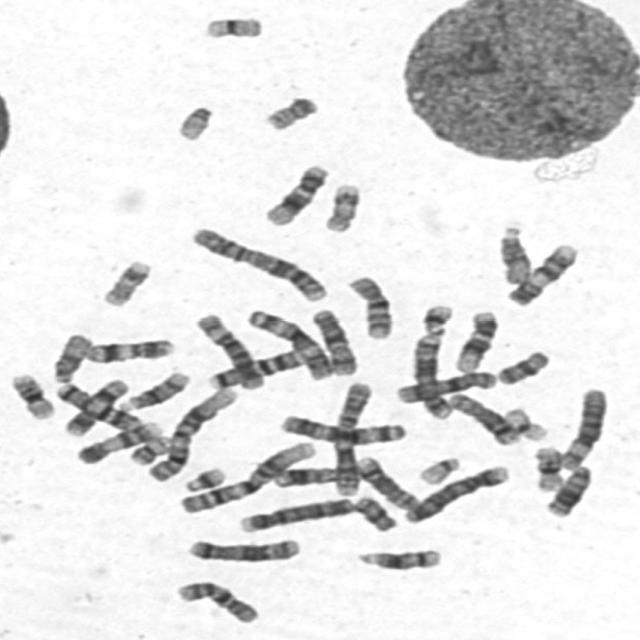A1: (174, 436, 321, 516), (143, 383, 242, 483)
A2: (185, 222, 334, 303), (327, 377, 378, 497)
A3: (242, 304, 338, 382), (276, 409, 411, 445)
B4: (399, 460, 514, 526), (233, 492, 358, 534)
B5: (407, 328, 456, 421), (184, 534, 306, 564)
C10: (171, 575, 265, 626), (343, 270, 400, 341)
C11: (61, 374, 134, 437), (82, 333, 178, 365)
C12: (261, 159, 333, 227), (452, 306, 504, 372)
C6: (192, 308, 268, 390), (556, 382, 612, 471)
C7: (53, 378, 149, 437), (204, 344, 310, 390)
C8: (443, 388, 525, 446), (352, 451, 424, 511)
C9: (503, 238, 583, 308), (72, 417, 168, 465)
D13: (542, 461, 596, 518), (270, 461, 364, 492)
D14: (120, 367, 195, 412), (353, 544, 448, 572)
D15: (494, 219, 536, 285), (47, 329, 96, 384)
E16: (6, 368, 59, 420), (529, 441, 570, 493)
E17: (98, 254, 156, 308), (320, 178, 366, 234)
E18: (493, 344, 554, 386), (350, 491, 402, 533)
F19: (501, 403, 553, 442), (199, 12, 268, 40)
F20: (260, 91, 323, 132), (124, 431, 176, 467)
G21: (179, 462, 231, 493), (417, 299, 458, 335)
G22: (172, 100, 218, 142), (414, 451, 466, 486)
X: (392, 366, 502, 404), (306, 304, 362, 377)
